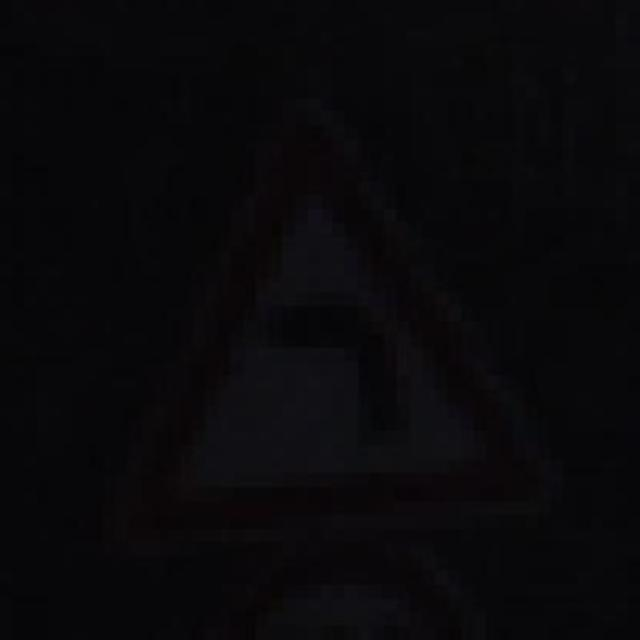Dangerous Left Curve Ahead: (115, 125, 499, 543)
